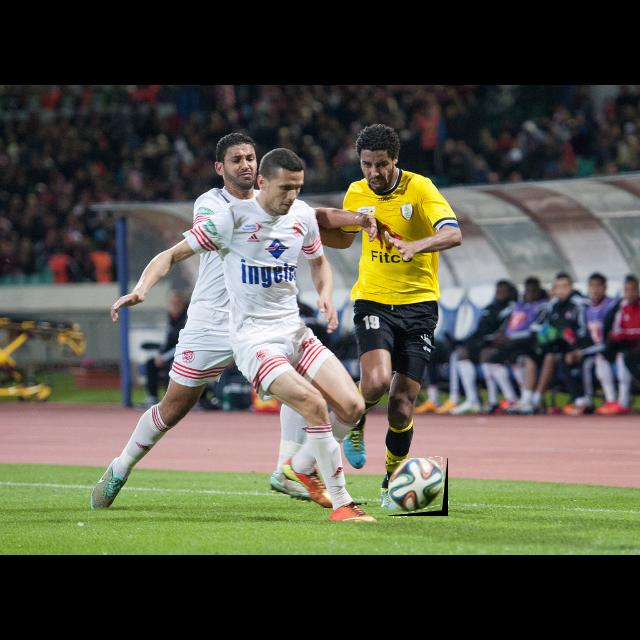Football: (388, 458, 448, 516)
